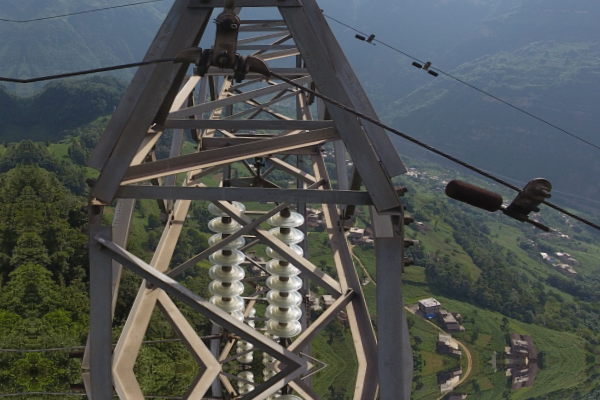damper: (410, 58, 439, 78)
damper_defect: (439, 174, 555, 235), (352, 31, 379, 46)
